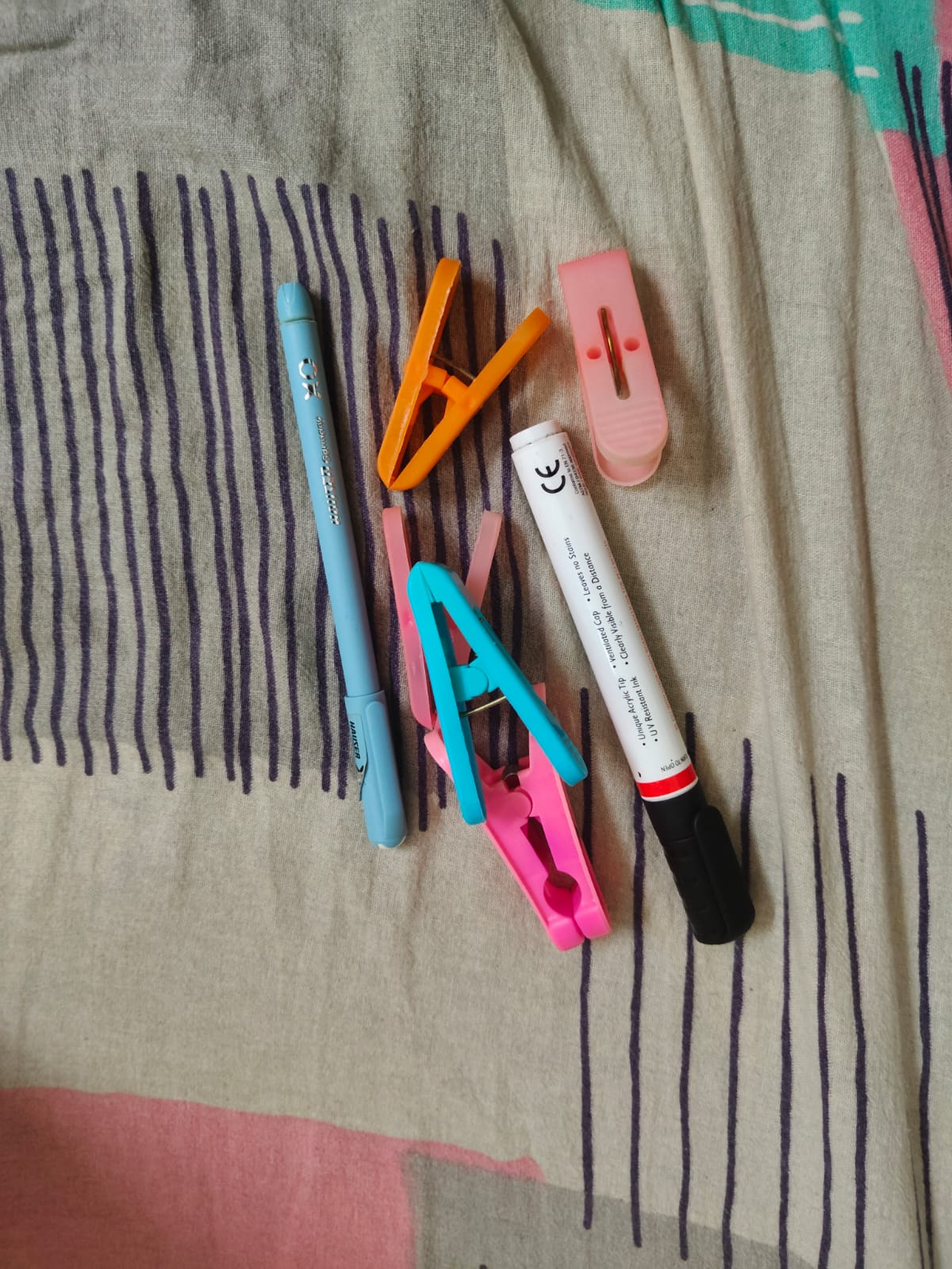case: (499, 404, 777, 999)
pen: (251, 269, 424, 854)
